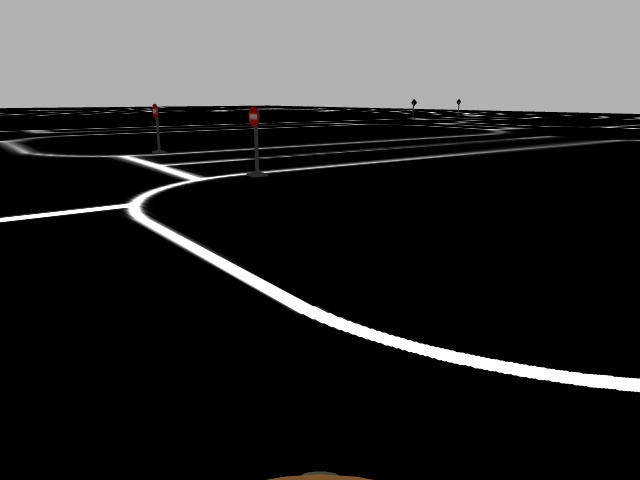prohibited: (248, 105, 259, 129), (151, 103, 159, 119)
